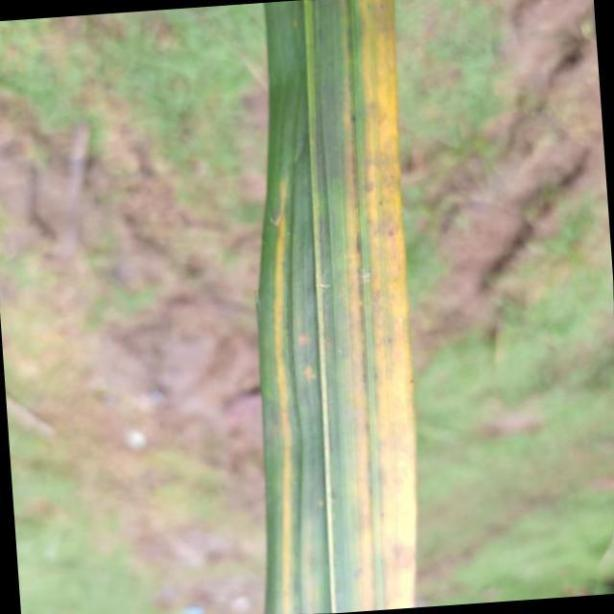Megnesium: (258, 0, 420, 614)
